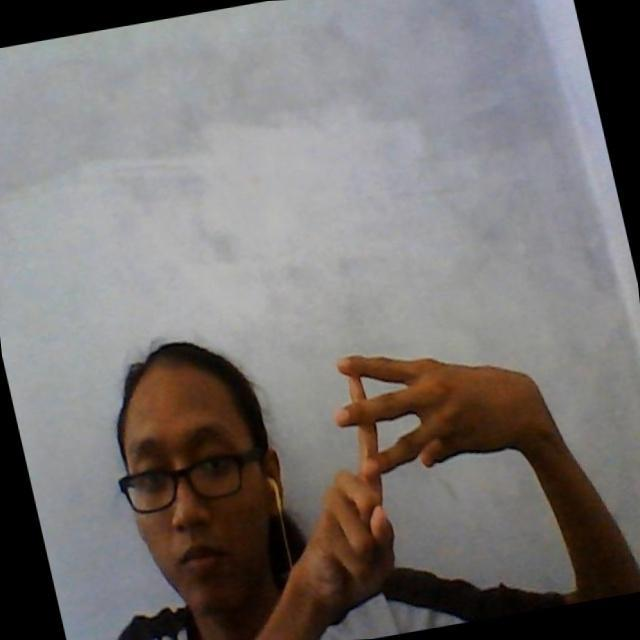B: (318, 338, 486, 602)
